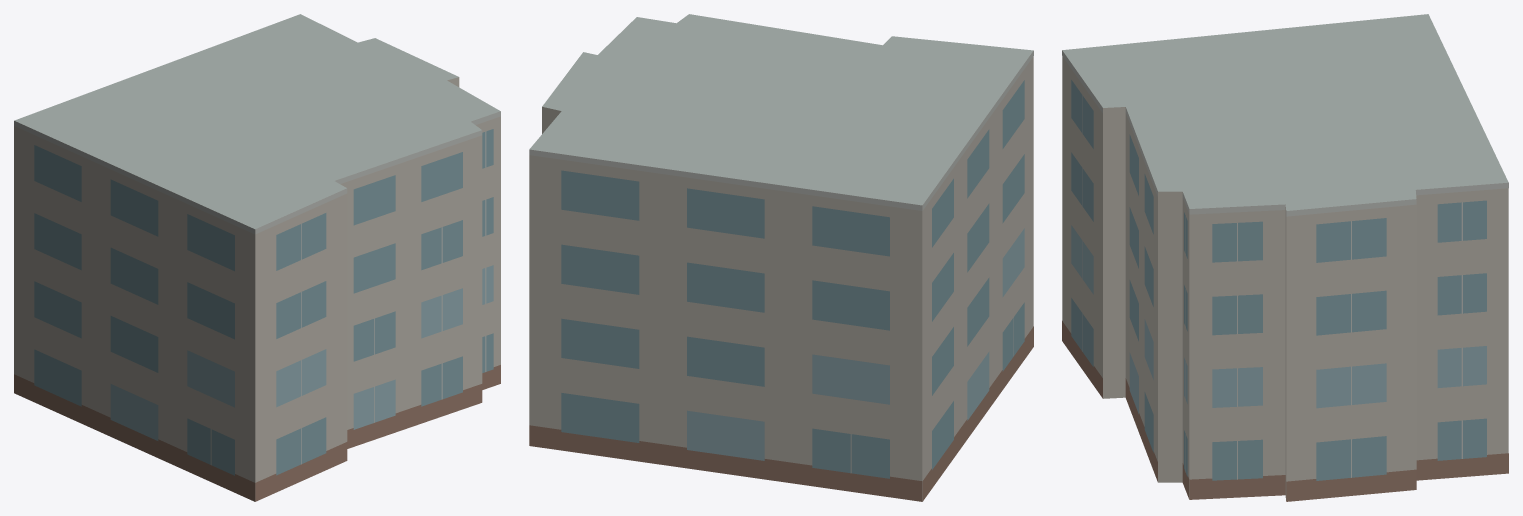
The model's file is survey-upis-32992090.glb.
The picture shows the model from 3 angles, left to right: view 1: azimuth 30°, elevation 25°; view 2: azimuth 150°, elevation 25°; view 3: azimuth 270°, elevation 25°; orthographic projection. The views are drawn at different scales.
Visible parts, largest first — view 1: survey-upis-32992090.tmp; view 2: survey-upis-32992090.tmp; view 3: survey-upis-32992090.tmp.
Part boxes in pixels (x1,y1,x2,y2): survey-upis-32992090.tmp: (14, 14, 500, 501); survey-upis-32992090.tmp: (529, 14, 1033, 501); survey-upis-32992090.tmp: (1062, 14, 1508, 501).
Size of the model in its own units: 18.62 by 12.8 by 17.83.
